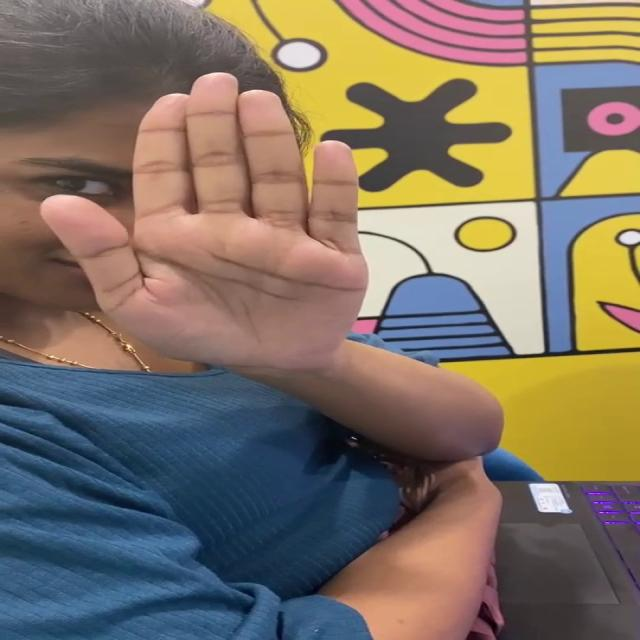no-gloves: (33, 55, 430, 376)
